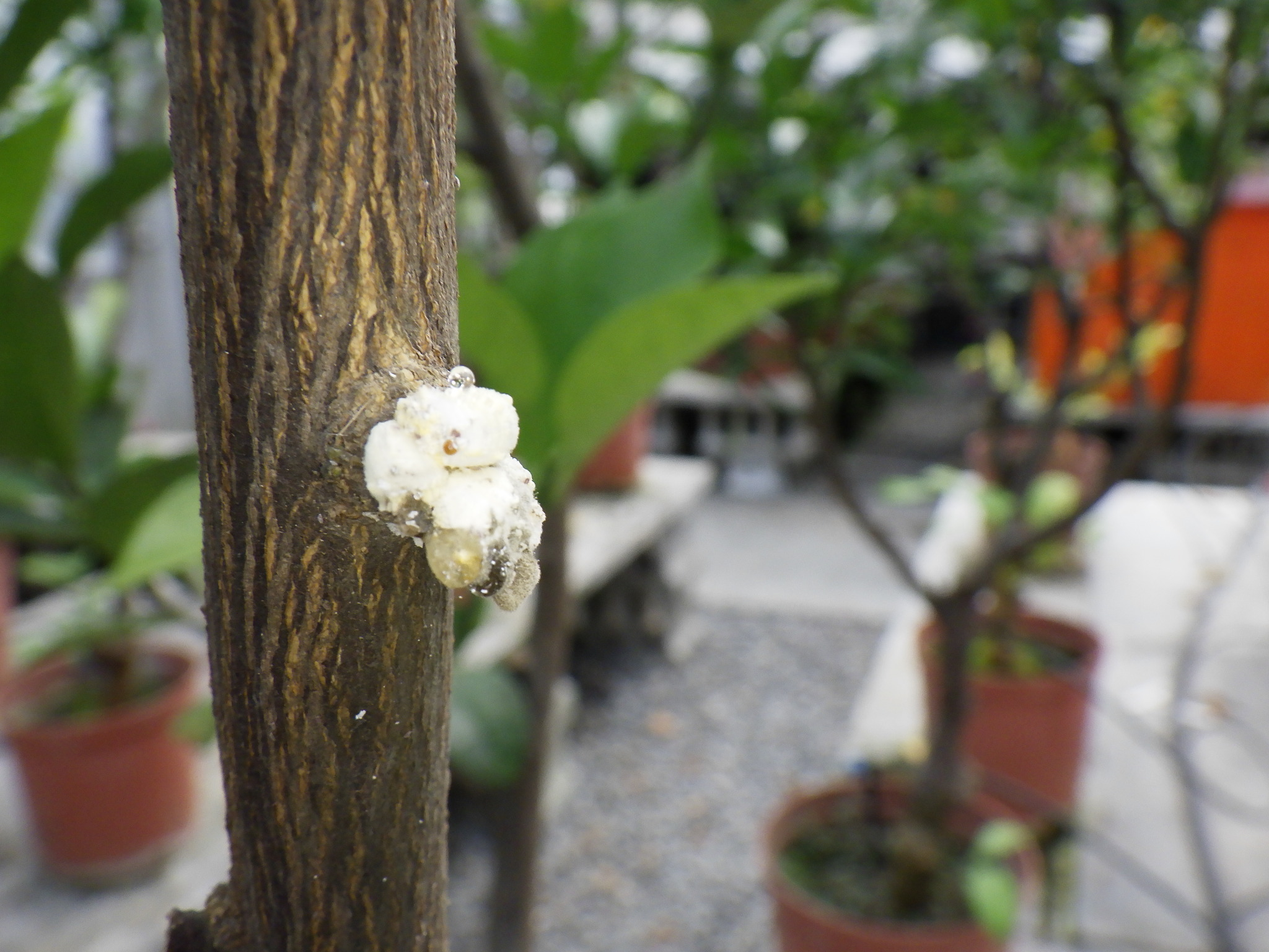Scale_Insect: (364, 366, 543, 610)
